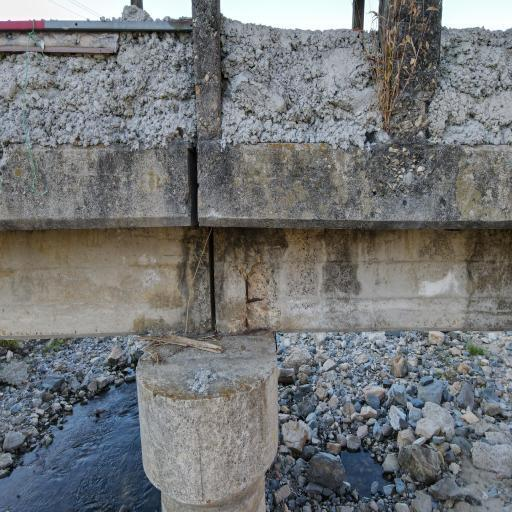exposed_rebar: (245, 278, 263, 304)
